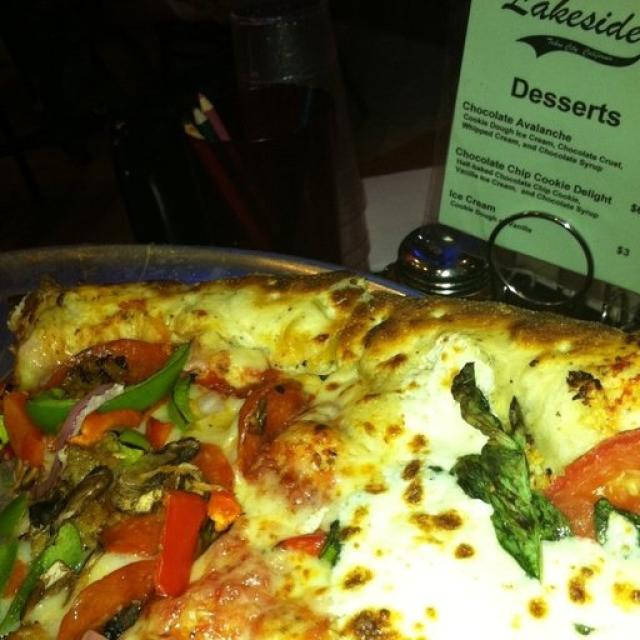Basil: (454, 365, 577, 567), (319, 525, 360, 564), (594, 502, 620, 544)
Green Pepper: (3, 526, 76, 635), (100, 344, 197, 410), (0, 500, 30, 570), (36, 390, 73, 424)
Mushrooms: (49, 438, 195, 510), (65, 360, 124, 390), (104, 604, 148, 640)
Pizza: (0, 279, 640, 640)
Red Pepper: (557, 428, 640, 522), (56, 573, 150, 636), (237, 376, 303, 464), (166, 493, 201, 589), (204, 448, 247, 522), (1, 398, 49, 454), (117, 338, 167, 380), (104, 523, 163, 552), (277, 532, 329, 556)
